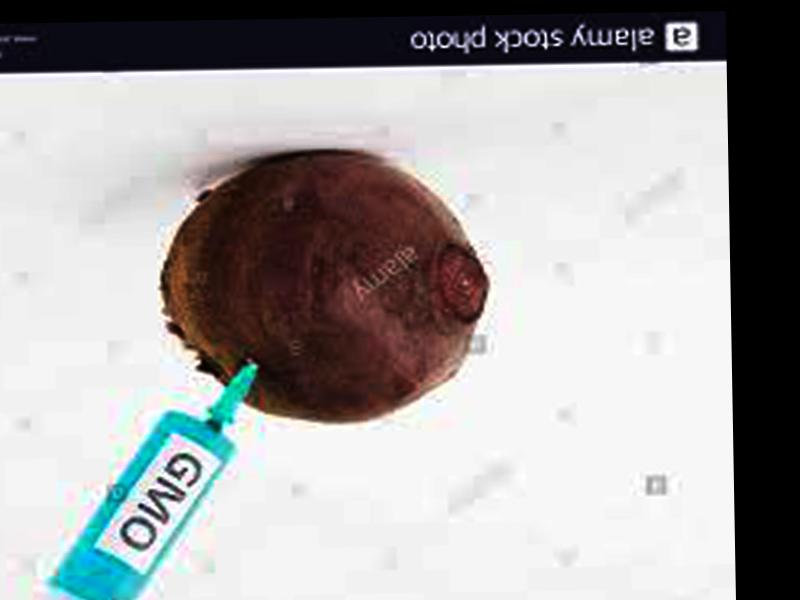Beet: (164, 146, 488, 427)
